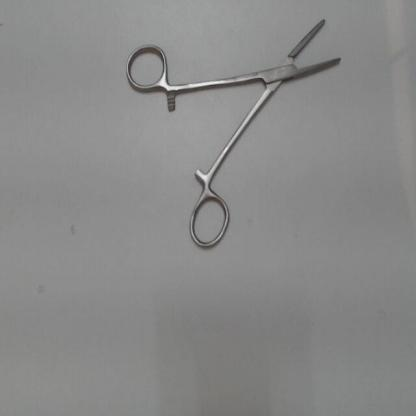Mayo Needle Holder: (119, 6, 353, 257)
